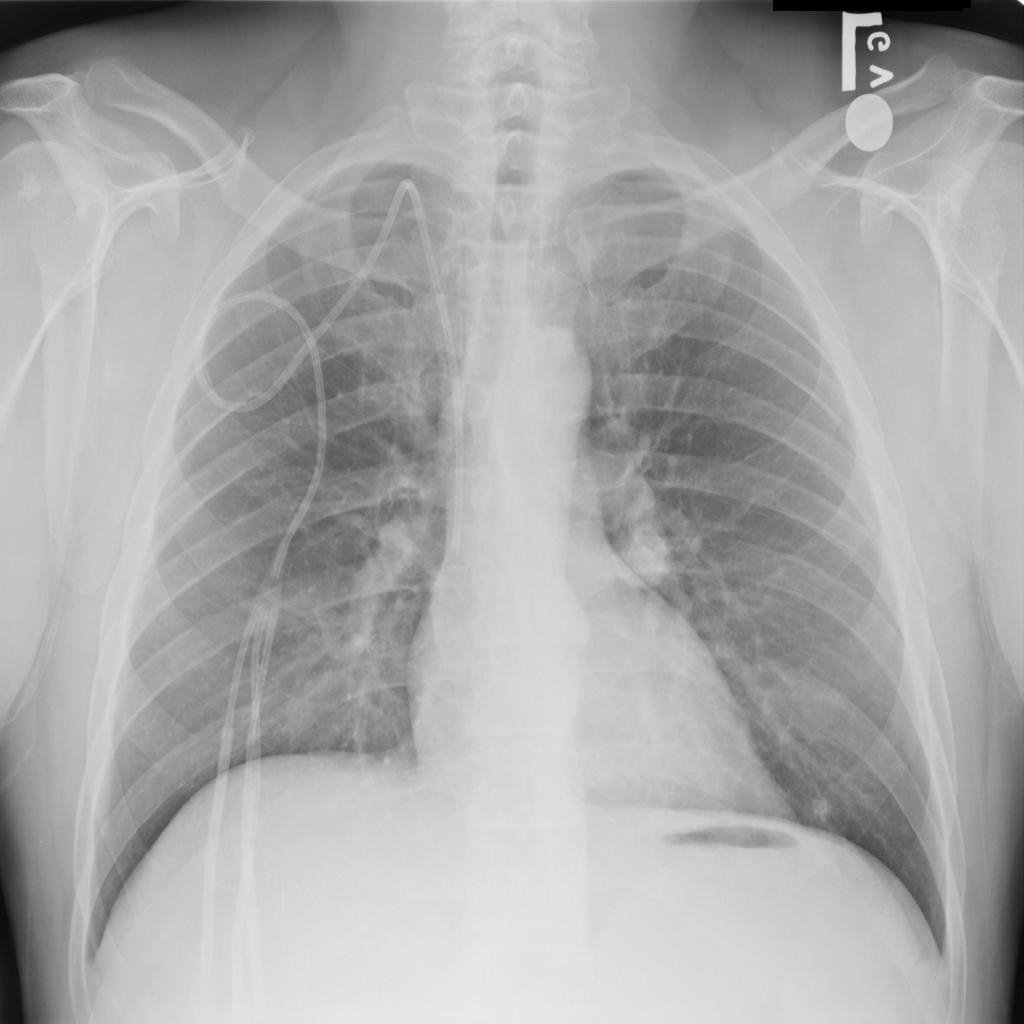nodule: (609, 516, 684, 595), (797, 784, 847, 834)
